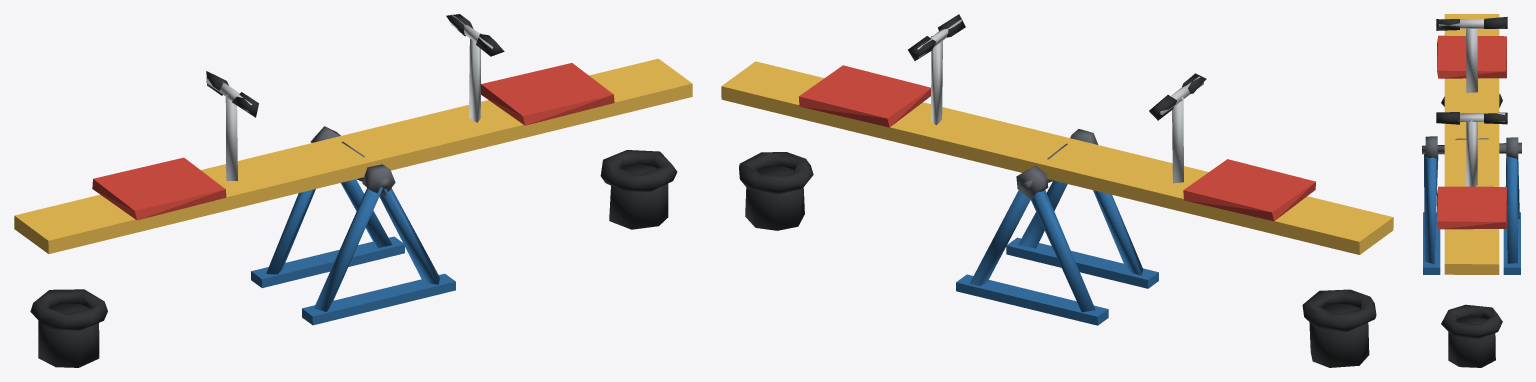
File: seesaw.far.glb
The picture shows the model from 3 angles, left to right: view 1: azimuth 30°, elevation 25°; view 2: azimuth 150°, elevation 25°; view 3: azimuth 270°, elevation 25°; orthographic projection. The views are drawn at different scales.
Visible parts, largest first — view 1: seesaw_far; view 2: seesaw_far; view 3: seesaw_far.
Boxes of the visible parts, bbox=[...] form: seesaw_far: bbox=[14, 14, 692, 367]; seesaw_far: bbox=[721, 14, 1393, 367]; seesaw_far: bbox=[1422, 14, 1521, 367].
Size of the model in its own units: 2.49 by 0.8478 by 0.42.
